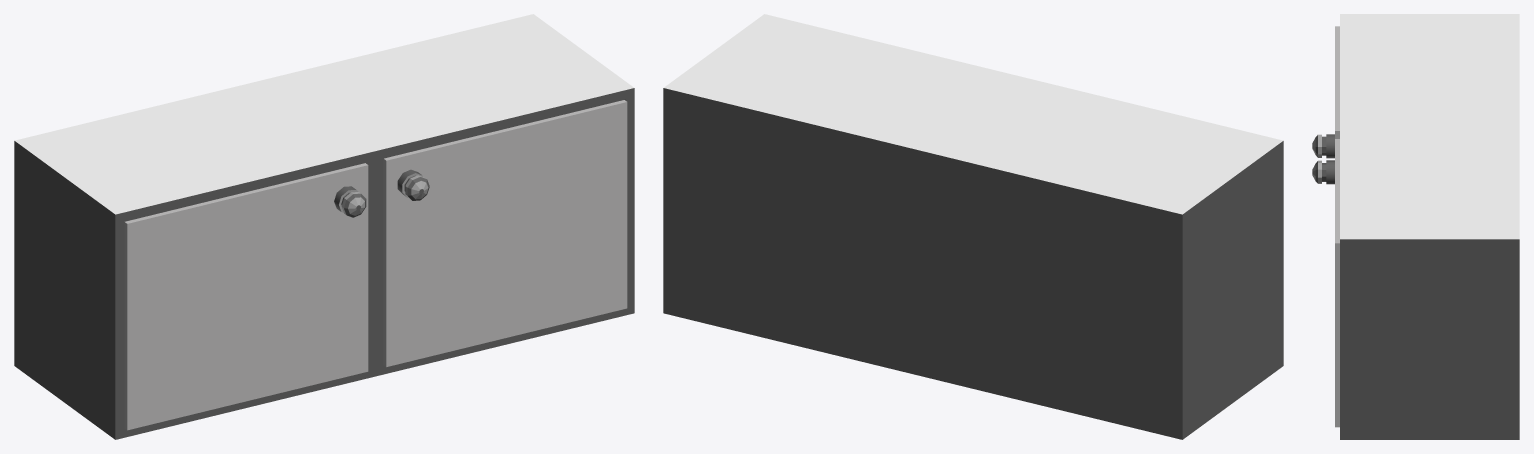
The model's file is Cabinet_Gray_Lower2.fbx.
3 views of the same model, side by side, from view 1: azimuth 30°, elevation 25°; view 2: azimuth 150°, elevation 25°; view 3: azimuth 270°, elevation 25° (orthographic). The views are drawn at different scales.
Visible parts, largest first — view 1: Cabinet_Gray_Lower2, Cabinet_Gray_Lower2.002, Cabinet_Gray_Lower2.001; view 2: Cabinet_Gray_Lower2; view 3: Cabinet_Gray_Lower2, Cabinet_Gray_Lower2.001, Cabinet_Gray_Lower2.002.
Boxes of the visible parts, x1,y1,x2,y2 form: Cabinet_Gray_Lower2: (14,14,634,439); Cabinet_Gray_Lower2.002: (124,163,368,430); Cabinet_Gray_Lower2.001: (383,100,627,366); Cabinet_Gray_Lower2: (663,14,1283,439); Cabinet_Gray_Lower2: (1340,14,1519,439); Cabinet_Gray_Lower2.001: (1312,139,1339,427); Cabinet_Gray_Lower2.002: (1312,26,1339,158).
Bounding box in the file's own units: 200 × 82.98 × 77.85.
